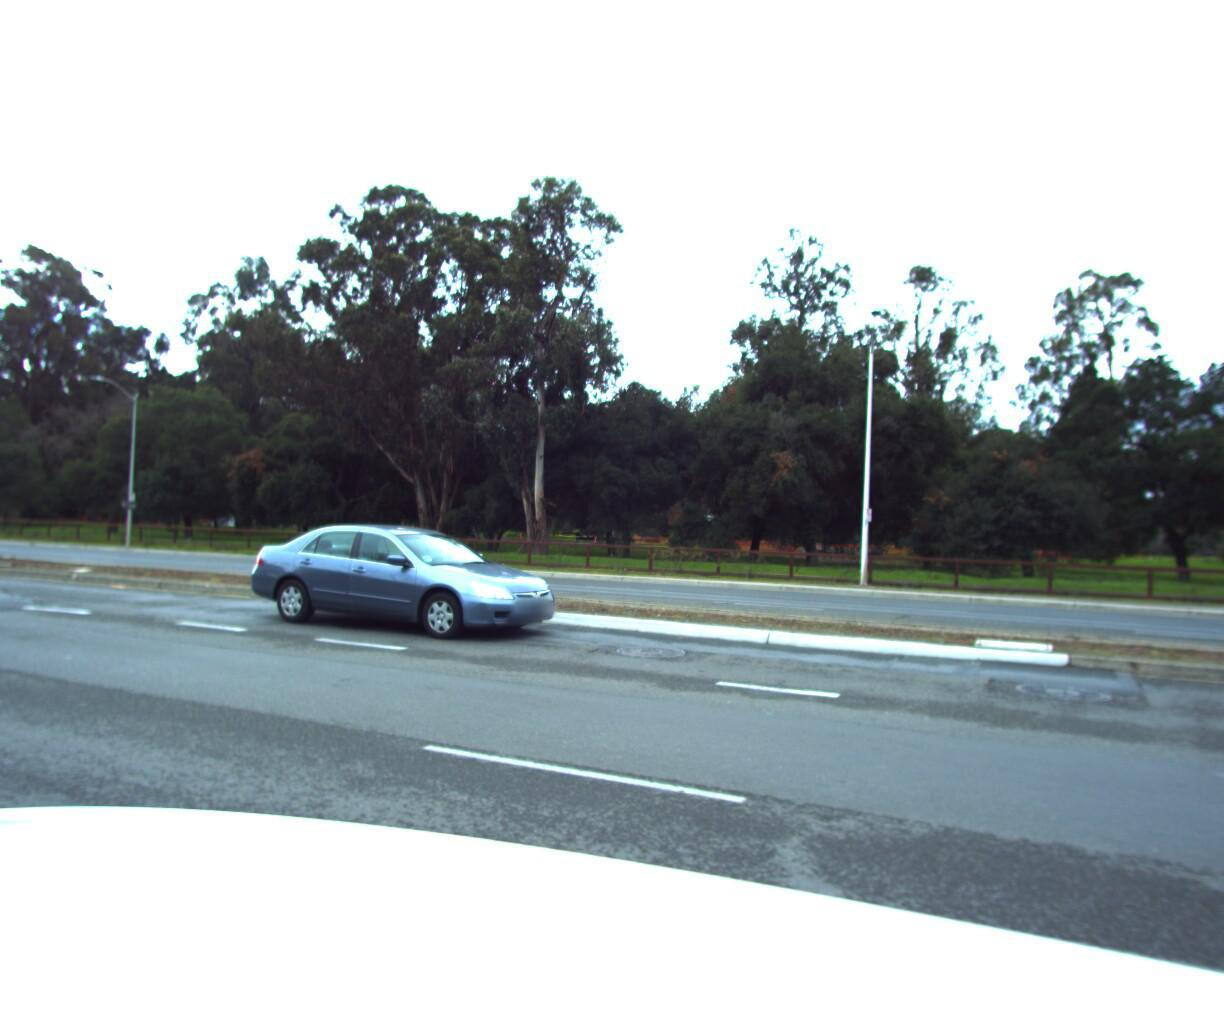car: (243, 506, 576, 642)
